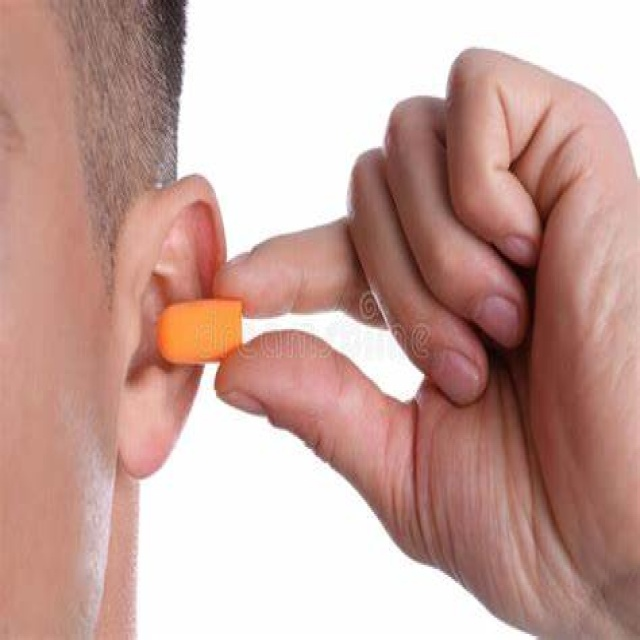Hearing_Protection: (164, 287, 246, 364)
